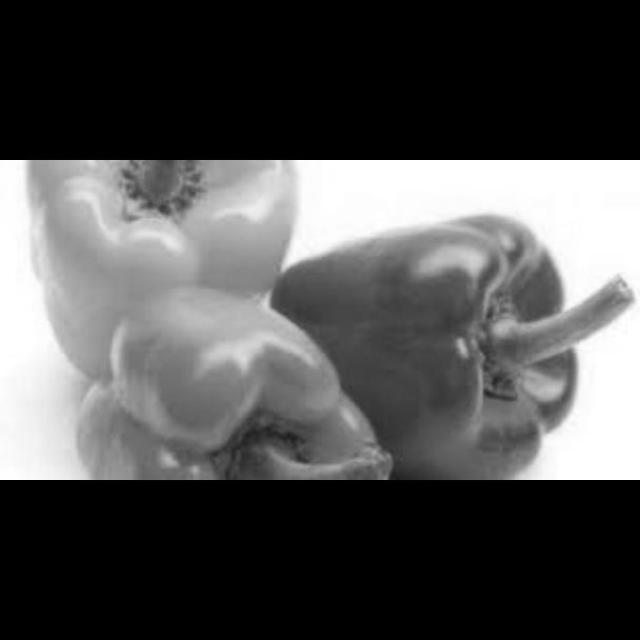ot chuong: (262, 212, 635, 479), (17, 160, 303, 379), (74, 287, 377, 479)
